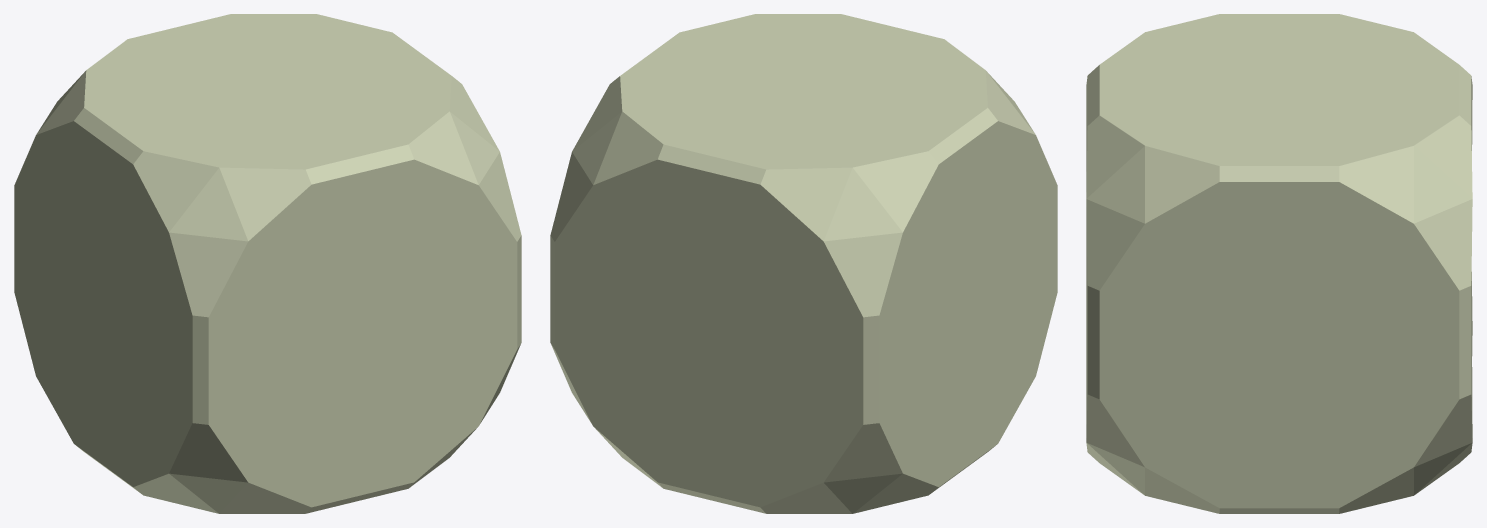
Rendered from Eridani_Node_1_Collider.obj.
3 renders of one model, left to right at view 1: azimuth 30°, elevation 25°; view 2: azimuth 150°, elevation 25°; view 3: azimuth 270°, elevation 25°, orthographic.
Visible parts, largest first — view 1: Eridani_Node_1_Collider; view 2: Eridani_Node_1_Collider; view 3: Eridani_Node_1_Collider.
Boxes of the visible parts, <box> form: Eridani_Node_1_Collider: <box>14,14,521,513</box>; Eridani_Node_1_Collider: <box>550,14,1057,513</box>; Eridani_Node_1_Collider: <box>1086,14,1472,513</box>.
Size of the model in its own units: 0.986 by 0.986 by 0.986.
